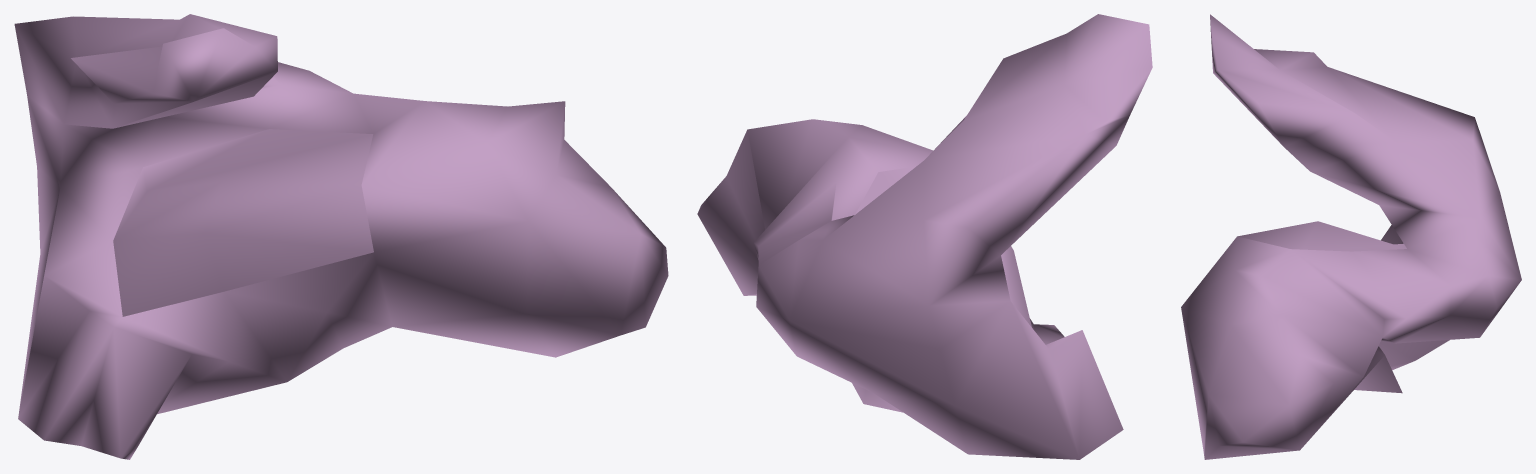
The picture shows the model from 3 angles, left to right: view 1: azimuth 30°, elevation 25°; view 2: azimuth 150°, elevation 25°; view 3: azimuth 270°, elevation 25°; orthographic projection. The views are drawn at different scales.
Visible parts, largest first — view 1: 左侧侧副沟后横支; view 2: 左侧侧副沟后横支; view 3: 左侧侧副沟后横支.
Boxes of the visible parts, x1,y1,x2,y2 form: 左侧侧副沟后横支: (14, 14, 668, 459); 左侧侧副沟后横支: (697, 14, 1152, 459); 左侧侧副沟后横支: (1181, 14, 1521, 459).
Bounding box in the file's own units: 0.0267 × 0.0218 × 0.0196.
